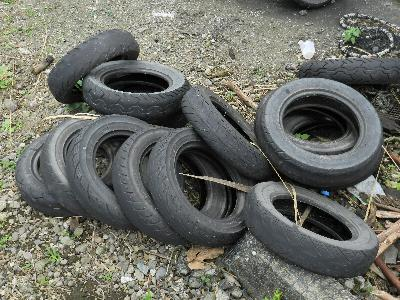tire: (254, 76, 385, 189), (243, 180, 381, 280), (145, 126, 255, 248), (179, 84, 274, 181), (46, 28, 141, 105), (80, 58, 193, 121)
